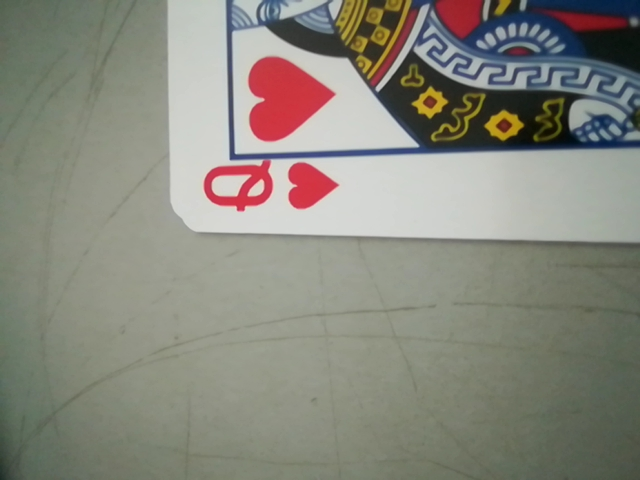hx q: (196, 155, 342, 225)
